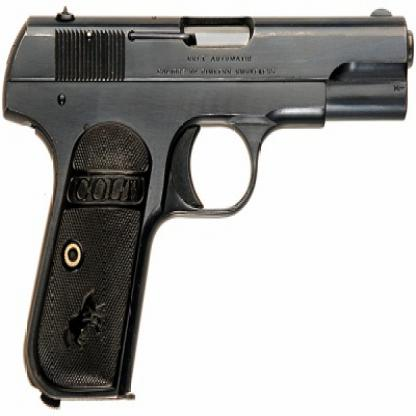Guns: (0, 3, 415, 409)
